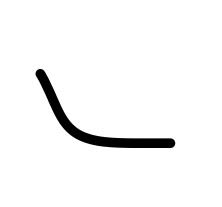b: (15, 55, 95, 160)
r: (82, 117, 193, 173)
